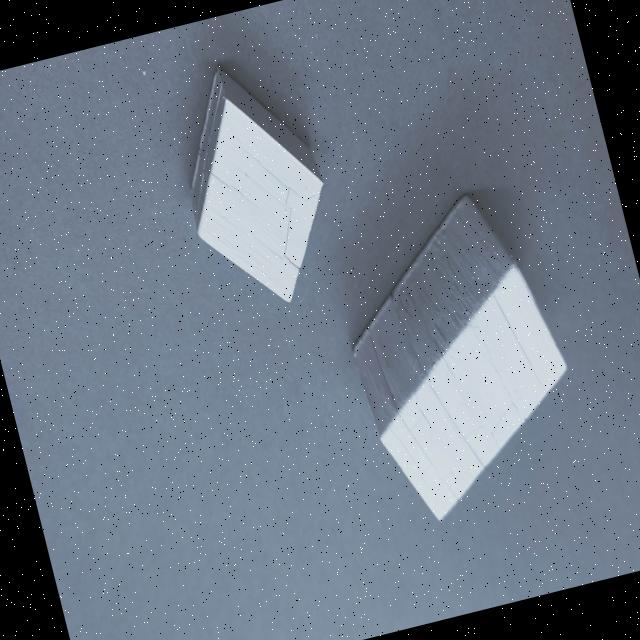cracks: (418, 349, 497, 490), (260, 184, 328, 285)
